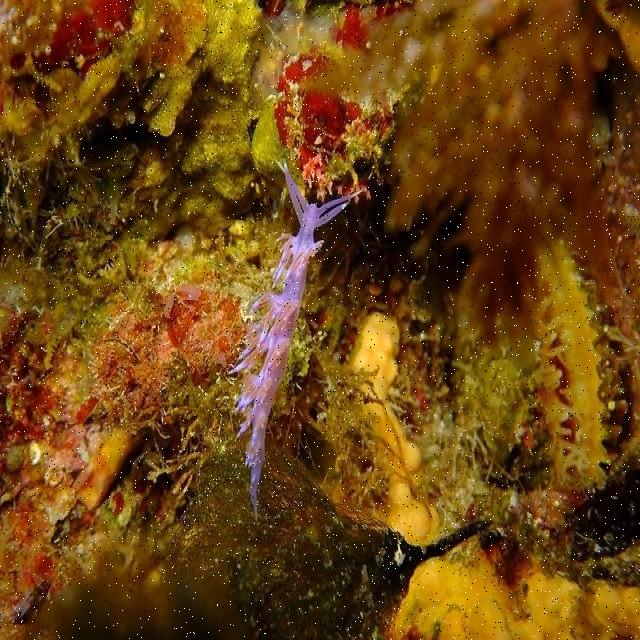aquatic plants: (0, 0, 263, 172), (276, 0, 419, 188), (533, 240, 610, 492), (322, 366, 410, 503)
reefs: (225, 165, 364, 505)
